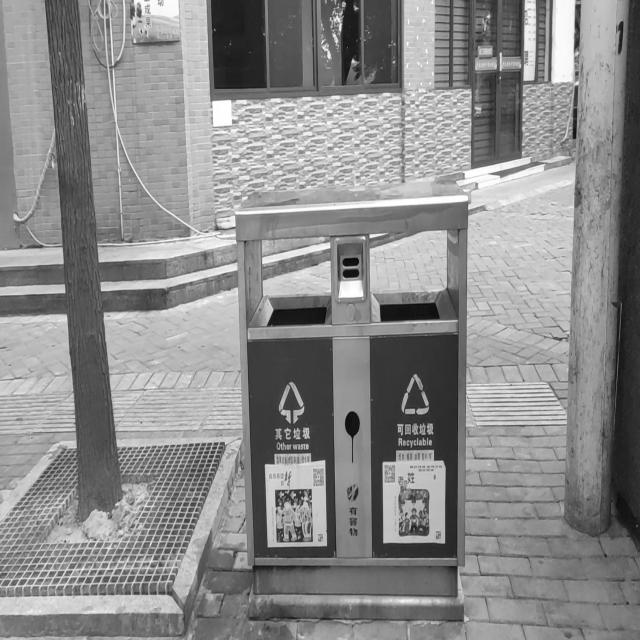ash bin: (233, 188, 473, 623)
pole: (560, 0, 632, 529)
